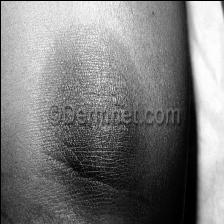Toxin: (58, 54, 138, 192)
